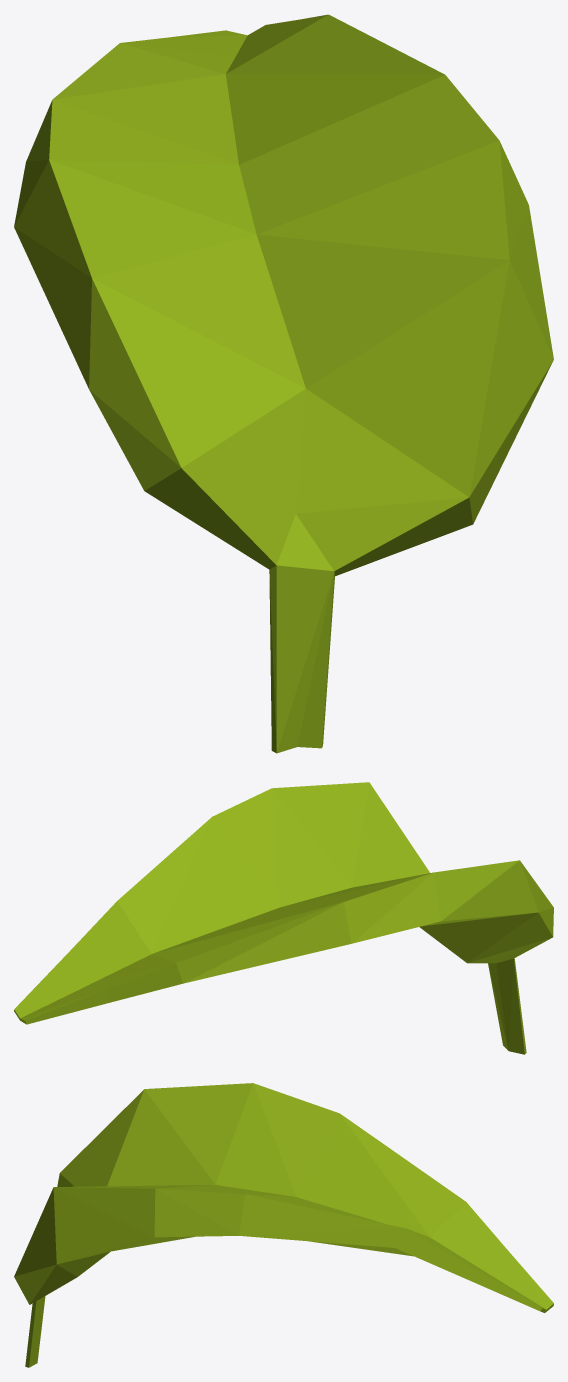
The model's file is Vegetation_Modular_Tree_Foliage_Common_Leaf_01.fbx.
3 renders of one model, top to bottom at view 1: azimuth 30°, elevation 25°; view 2: azimuth 150°, elevation 25°; view 3: azimuth 270°, elevation 25°, orthographic. The views are drawn at different scales.
Visible parts, largest first — view 1: Vegetation_Modular_Tree_Foliage_Common_Leaf_01; view 2: Vegetation_Modular_Tree_Foliage_Common_Leaf_01; view 3: Vegetation_Modular_Tree_Foliage_Common_Leaf_01.
Boxes of the visible parts, left/top/right/bottom form: Vegetation_Modular_Tree_Foliage_Common_Leaf_01: left=14, top=14, right=553, bottom=753; Vegetation_Modular_Tree_Foliage_Common_Leaf_01: left=14, top=782, right=553, bottom=1054; Vegetation_Modular_Tree_Foliage_Common_Leaf_01: left=14, top=1083, right=553, bottom=1367.
Bounding box in the file's own units: 472 × 384 × 714.
